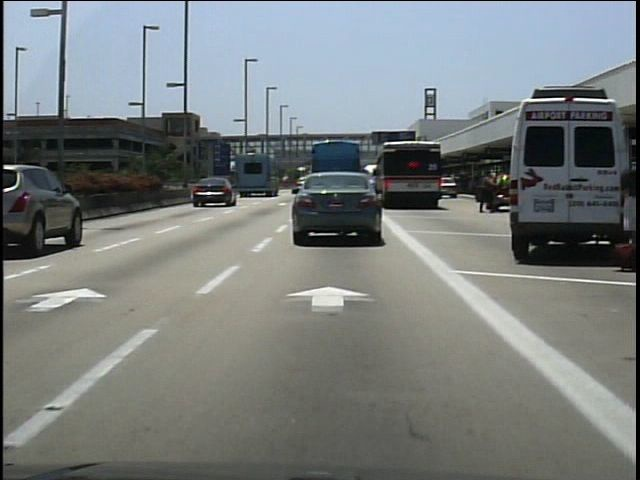person: (609, 144, 640, 273), (478, 170, 499, 220)
